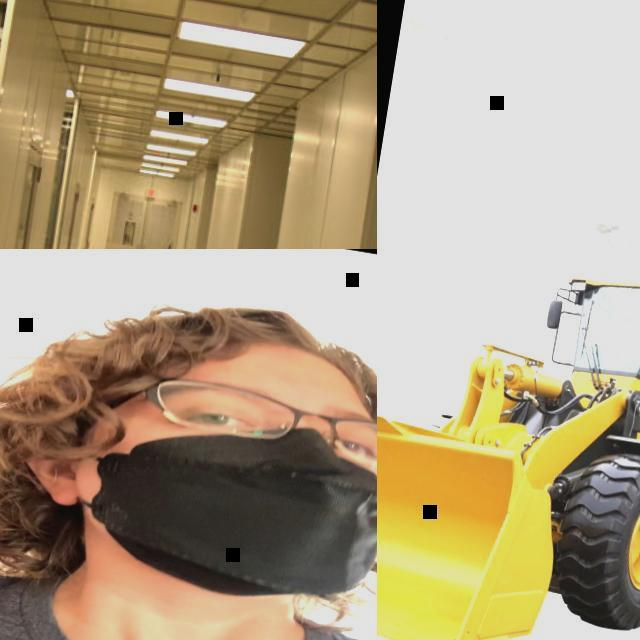machinery: (377, 249, 640, 640)
mask: (30, 388, 377, 617)
no_helmet: (34, 272, 377, 414)
no_vest: (0, 546, 377, 640)
person: (0, 249, 377, 640)
